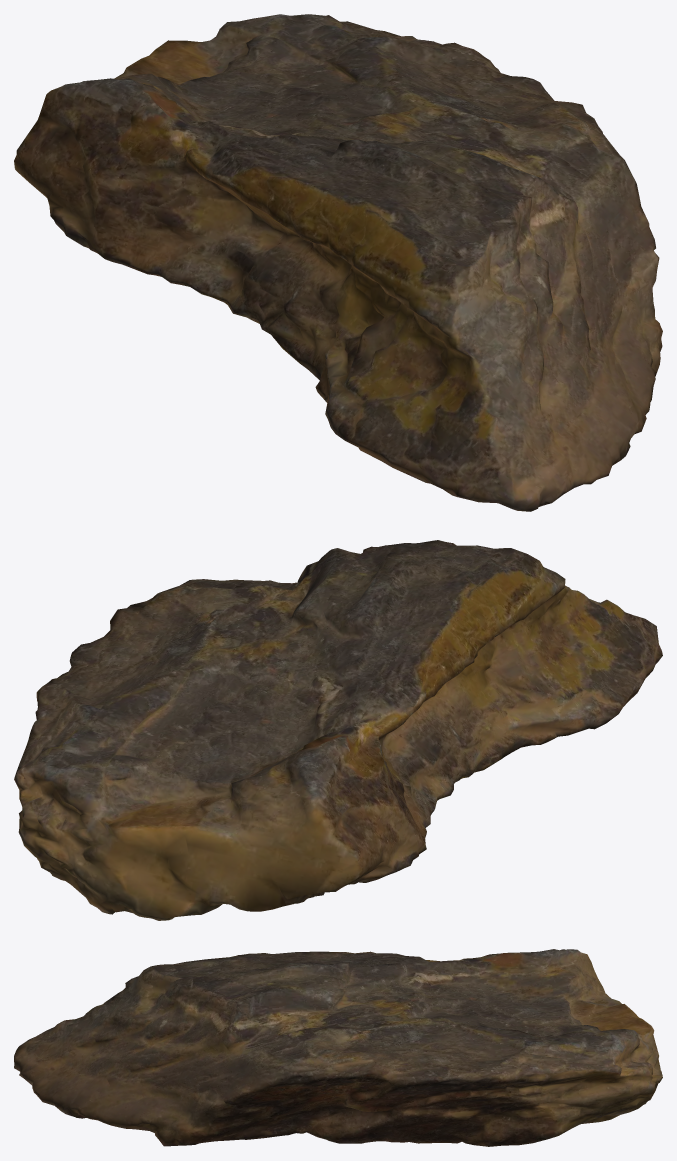
File: rock_09.glb
3 renders of one model, top to bottom at view 1: azimuth 30°, elevation 25°; view 2: azimuth 150°, elevation 25°; view 3: azimuth 270°, elevation 25°, orthographic. The views are drawn at different scales.
Visible parts, largest first — view 1: rock_09_LOD0; view 2: rock_09_LOD0; view 3: rock_09_LOD0.
Part boxes in pixels (left/top/right/bottom): rock_09_LOD0: left=14, top=14, right=662, bottom=511; rock_09_LOD0: left=14, top=540, right=662, bottom=920; rock_09_LOD0: left=14, top=949, right=662, bottom=1146.
Bounding box in the file's own units: 0.074 × 0.0329 × 0.1446.
Materials: 1 (1 with a texture image).
